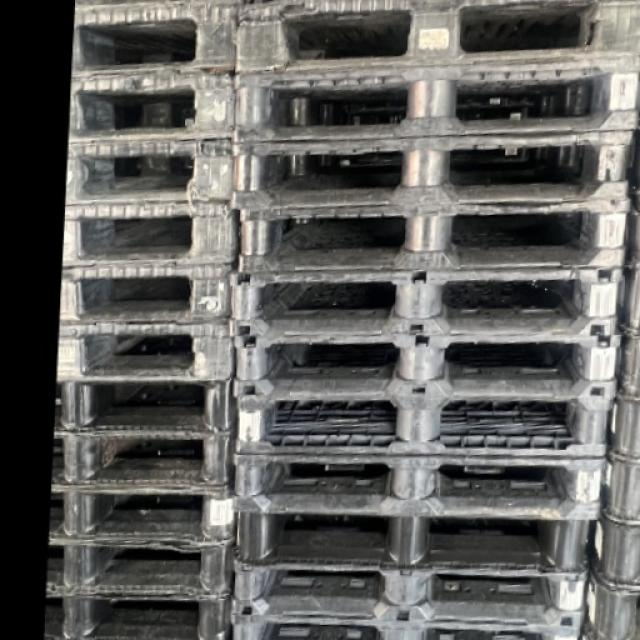igps: (222, 129, 640, 216), (222, 542, 595, 634), (229, 326, 630, 410), (226, 0, 640, 81), (228, 386, 622, 468), (226, 63, 640, 140), (226, 443, 613, 525), (227, 503, 608, 586), (216, 269, 627, 344), (231, 202, 634, 277), (225, 592, 592, 640), (42, 193, 244, 278), (49, 0, 246, 86), (56, 58, 242, 148), (60, 134, 252, 214), (48, 312, 240, 389), (38, 482, 245, 549), (49, 260, 240, 330), (41, 373, 243, 437), (44, 431, 242, 495), (37, 538, 240, 597), (37, 589, 238, 640)
